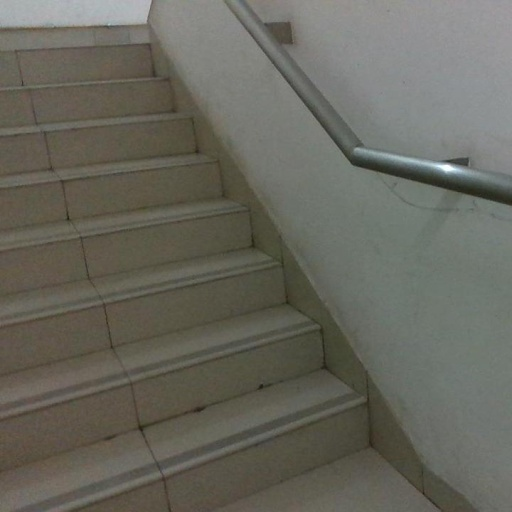Stairs: (0, 44, 368, 512)
